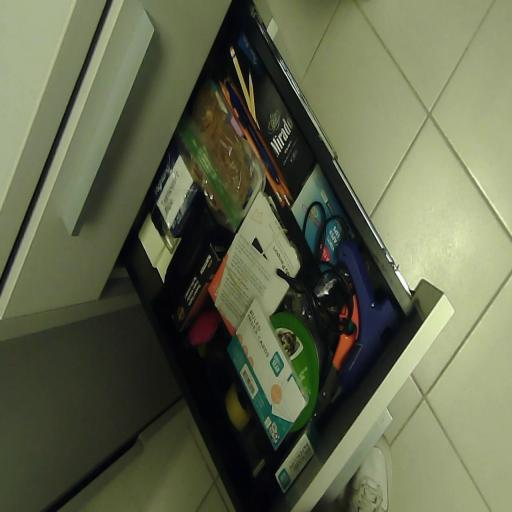pen: (227, 85, 279, 186)
